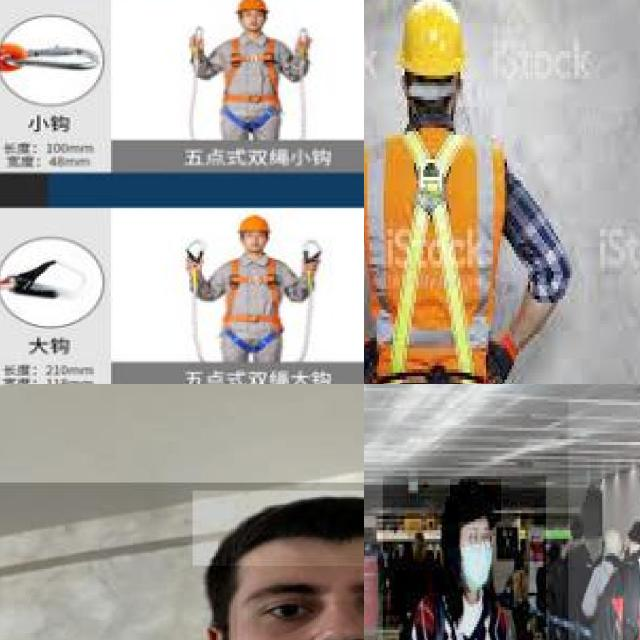Harness: (393, 132, 473, 374), (219, 35, 286, 135), (223, 250, 280, 359)
No_Ear-Protection: (191, 617, 251, 640)
No_Glasses: (233, 562, 364, 640)
face_mask: (459, 522, 492, 590)
face_nomask: (237, 566, 364, 640)
head_nohelmet: (192, 490, 364, 565), (450, 479, 503, 525)
person: (0, 482, 364, 640), (382, 476, 547, 640), (568, 399, 640, 640)
